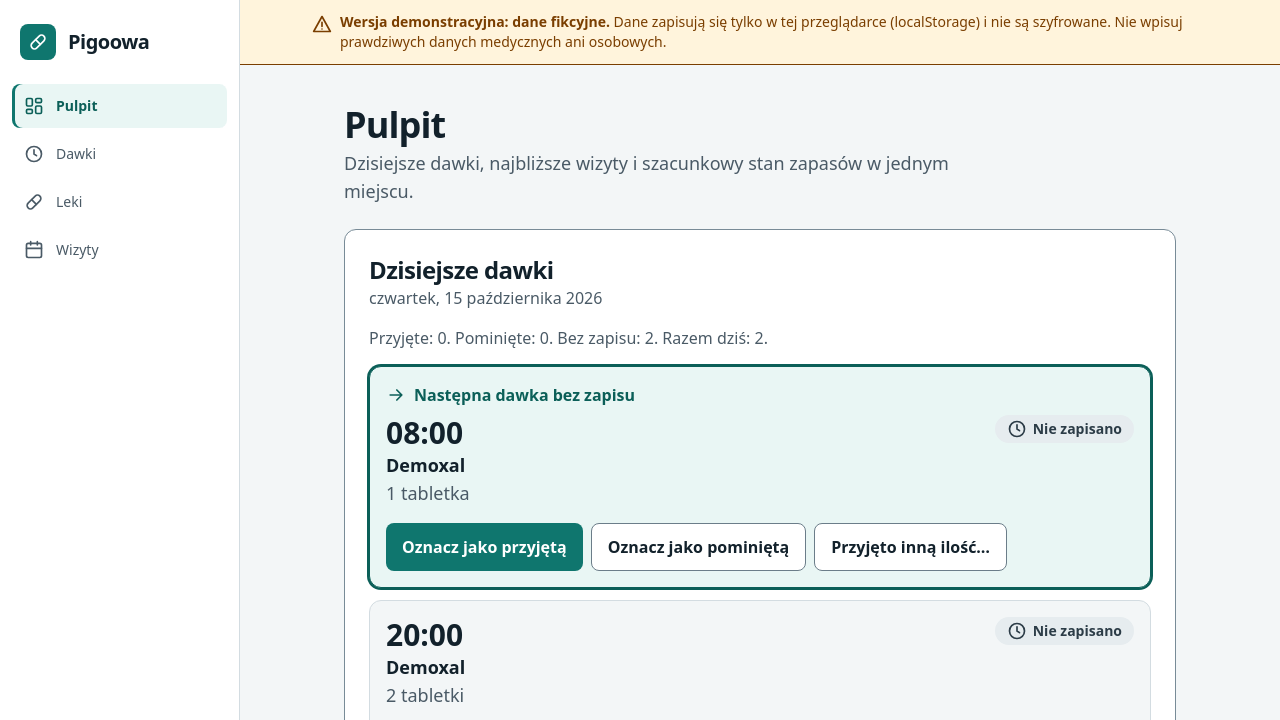
Test case: recording a dose with the amount actually taken › the planned amount typed is stored as "as planned" (no amount field), with just the note
The width and height of the screenshot is (1280, 720).
Click the button with aria-label "Przyjęto inną ilość: Demoxal, 08:00" at (911, 547), box [814,523,1007,571]
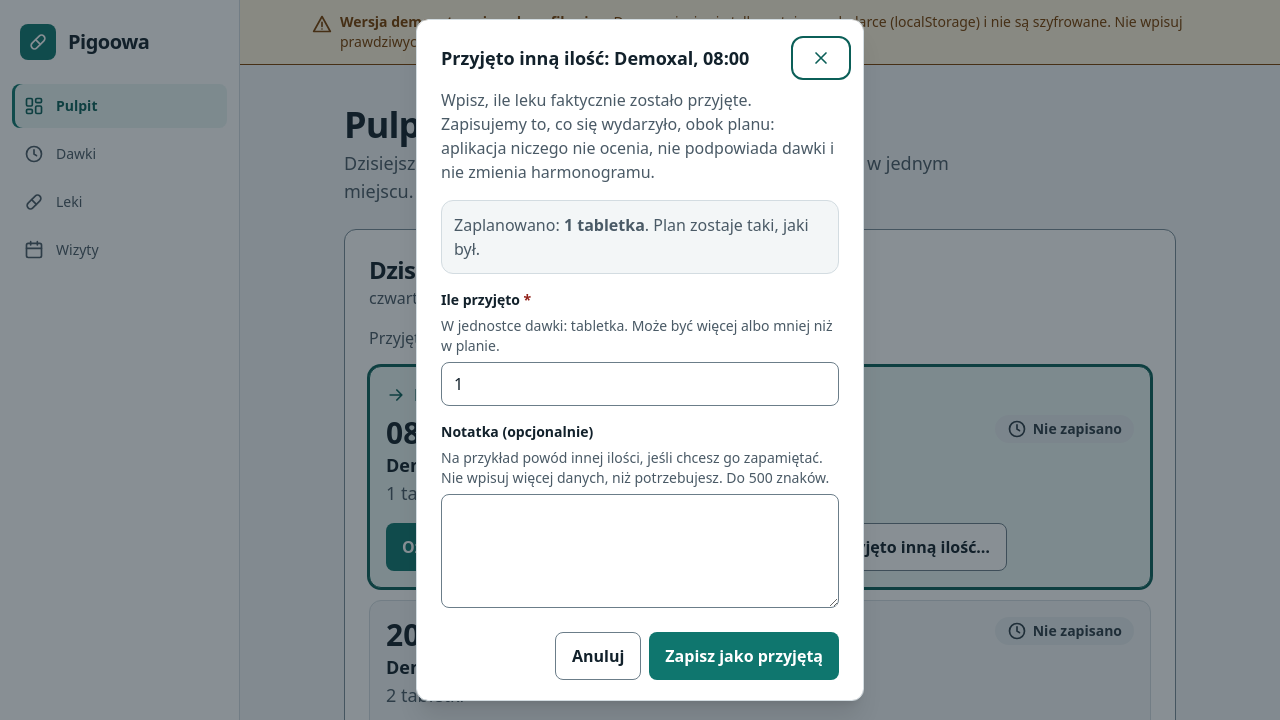
Type "Po jedzeniu" into the text box labelled "Notatka (opcjonalnie)" at (640, 551), box [441,494,839,608]
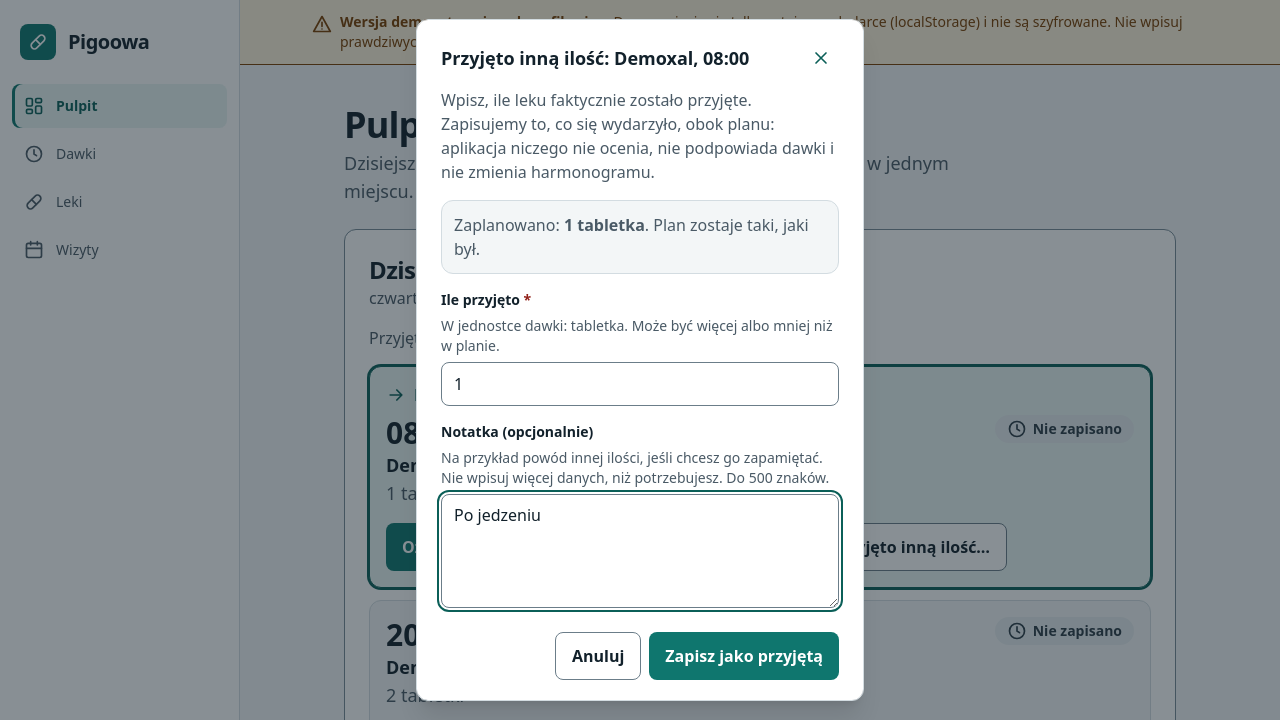
Click the button "Zapisz jako przyjętą" at (744, 656), box [649,632,839,680]
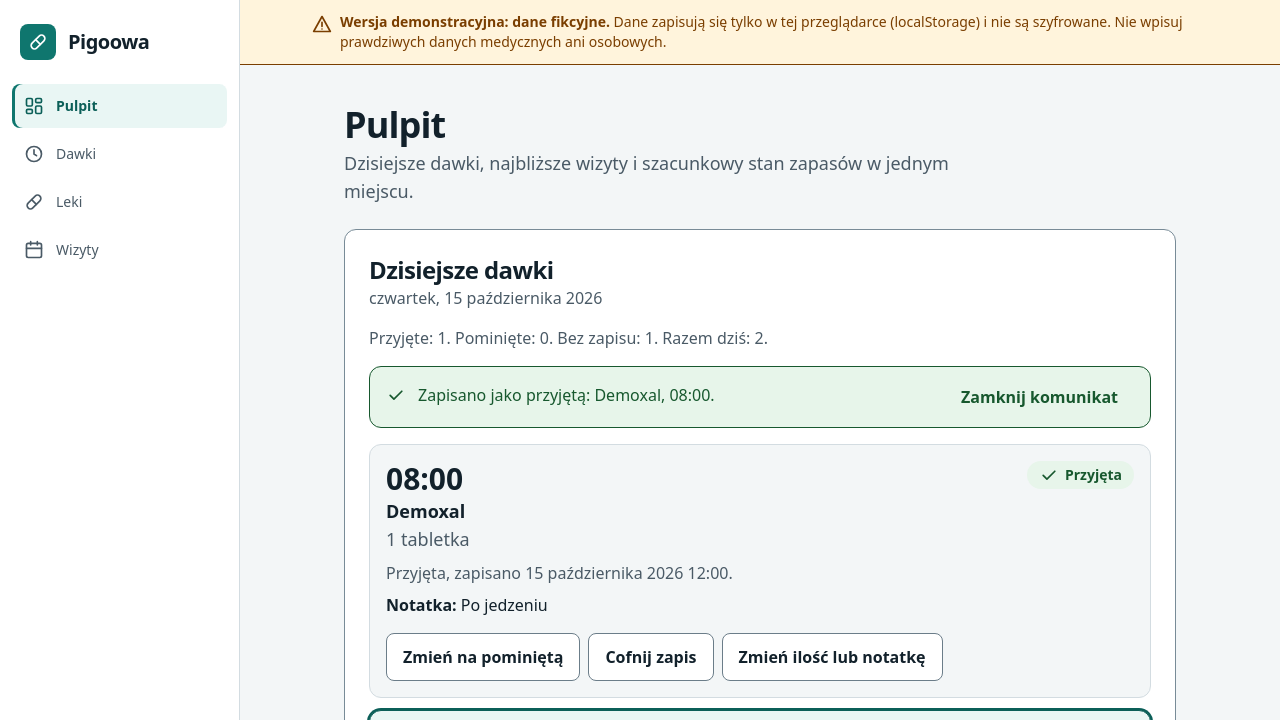
Expected: the text "Zapisano jako przyjętą: Demoxal, 08:00." is shown, [418,384,715,406]
